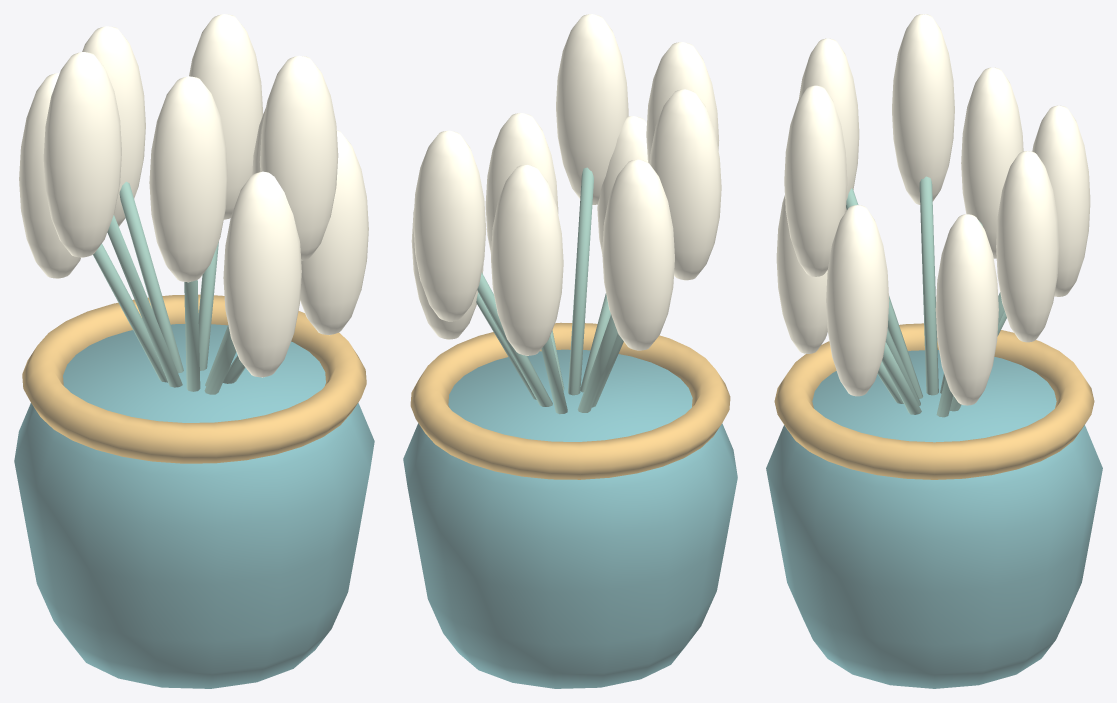
The model's file is sky_planter.glb.
3 renders of one model, left to right at view 1: azimuth 30°, elevation 25°; view 2: azimuth 150°, elevation 25°; view 3: azimuth 270°, elevation 25°, orthographic. The views are drawn at different scales.
Visible parts, largest first — view 1: sky_planter_surface; view 2: sky_planter_surface; view 3: sky_planter_surface.
Part boxes in pixels (x1=…): sky_planter_surface: x1=14, y1=14, x2=374, y2=688; sky_planter_surface: x1=403, y1=14, x2=737, y2=688; sky_planter_surface: x1=766, y1=14, x2=1102, y2=688.
Size of the model in its own units: 1.6 by 3 by 1.6.
